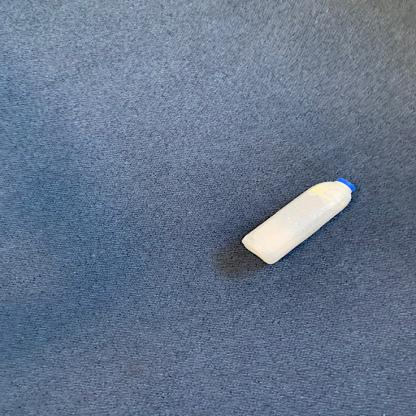trash: (240, 178, 356, 265)
